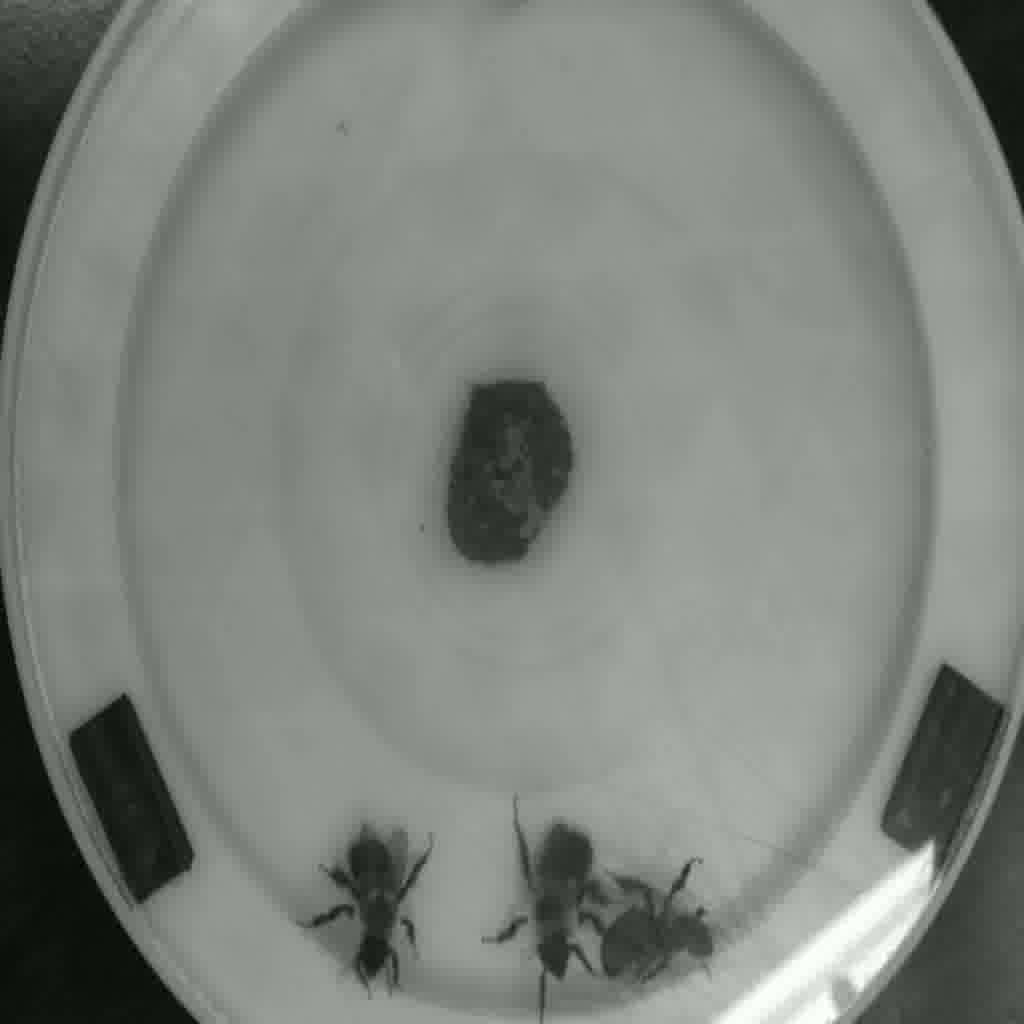bee: (511, 820, 598, 979), (324, 846, 430, 966), (596, 880, 720, 979)
